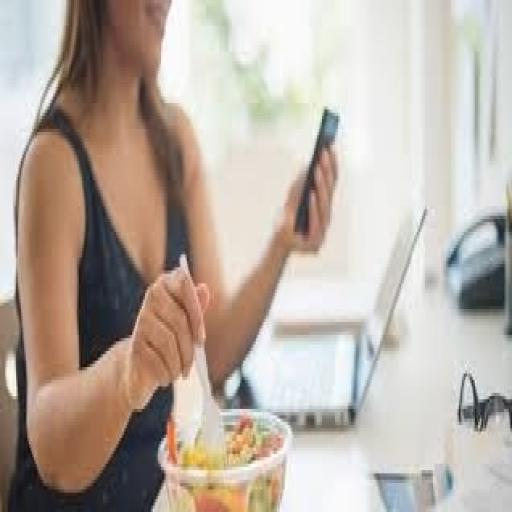eating: (6, 0, 340, 506)
